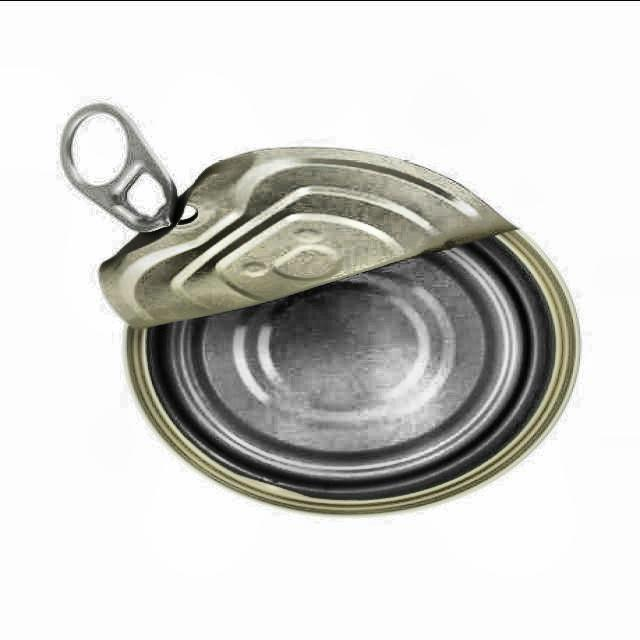metal: (60, 103, 583, 517)
